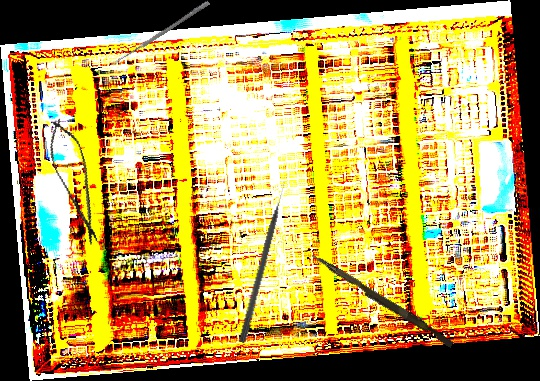Micro Scissor: (40, 114, 111, 249)
Pusher: (308, 253, 456, 348), (238, 181, 290, 344)
Surgical Spoon: (110, 0, 211, 67)
